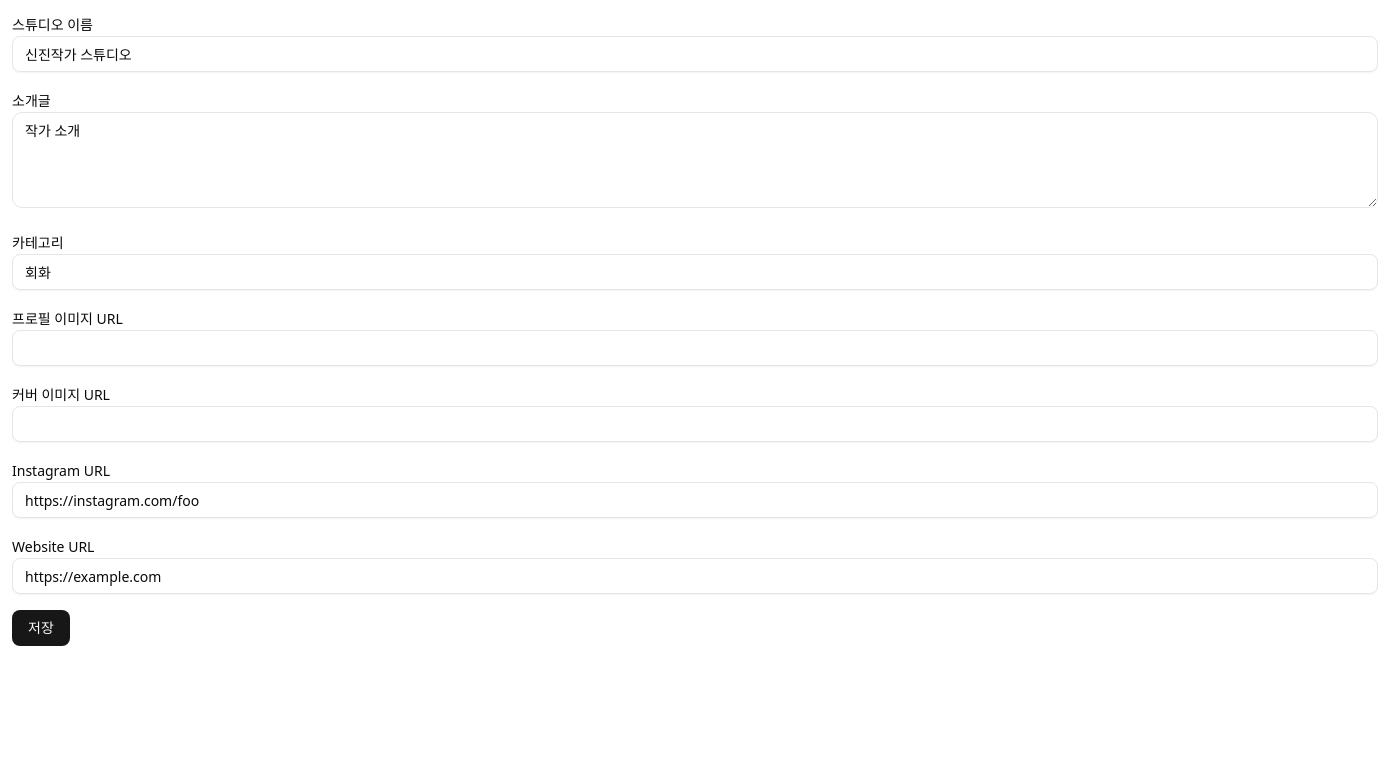
StudioEditForm (AC-005) › shows generic error when fetch throws
Click the button "저장" at (41, 628), box [12,610,70,646]
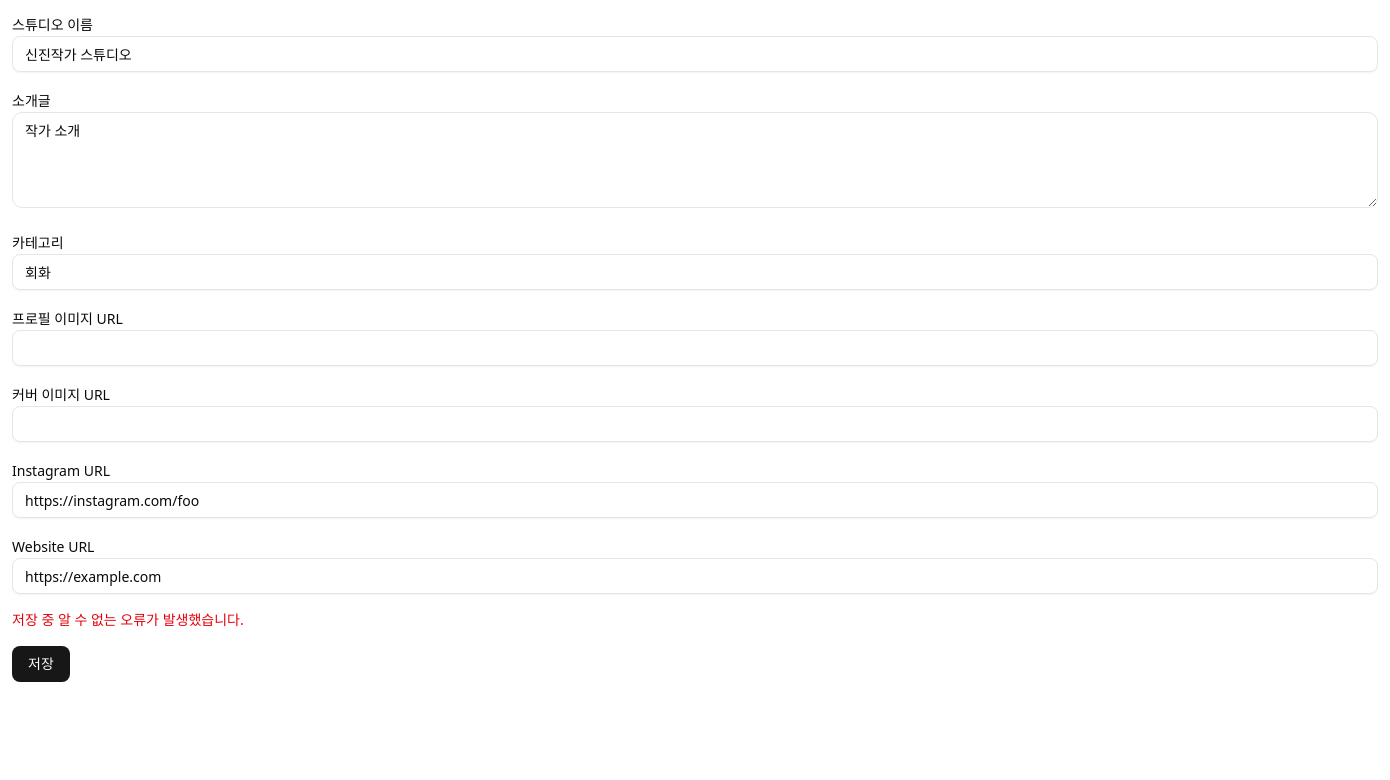
Expected: the text "저장 중 알 수 없는 오류가 발생했습니다." is shown, [12,610,244,629]
